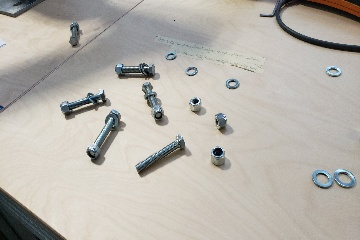Bolt: (131, 132, 189, 177)
FalseAssembly: (83, 109, 124, 162), (58, 88, 111, 116), (67, 17, 84, 50)
FinishedAssembly: (138, 83, 168, 119), (111, 64, 161, 78)
Nut: (208, 143, 230, 169), (188, 95, 205, 114), (213, 112, 230, 131)
Washer: (333, 166, 357, 190), (311, 166, 335, 189), (323, 66, 347, 80), (224, 76, 241, 91), (184, 66, 199, 78), (164, 52, 178, 60)
